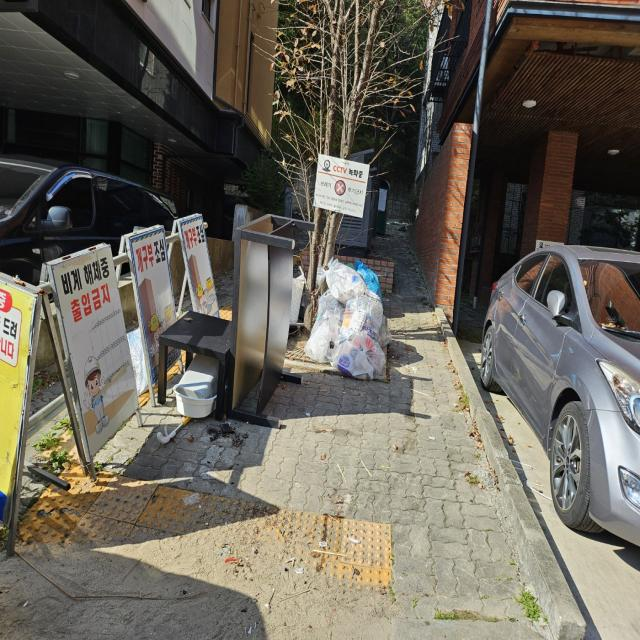General Waste: (302, 246, 400, 406)
Large Waste Items: (230, 210, 318, 437), (154, 293, 235, 406)
